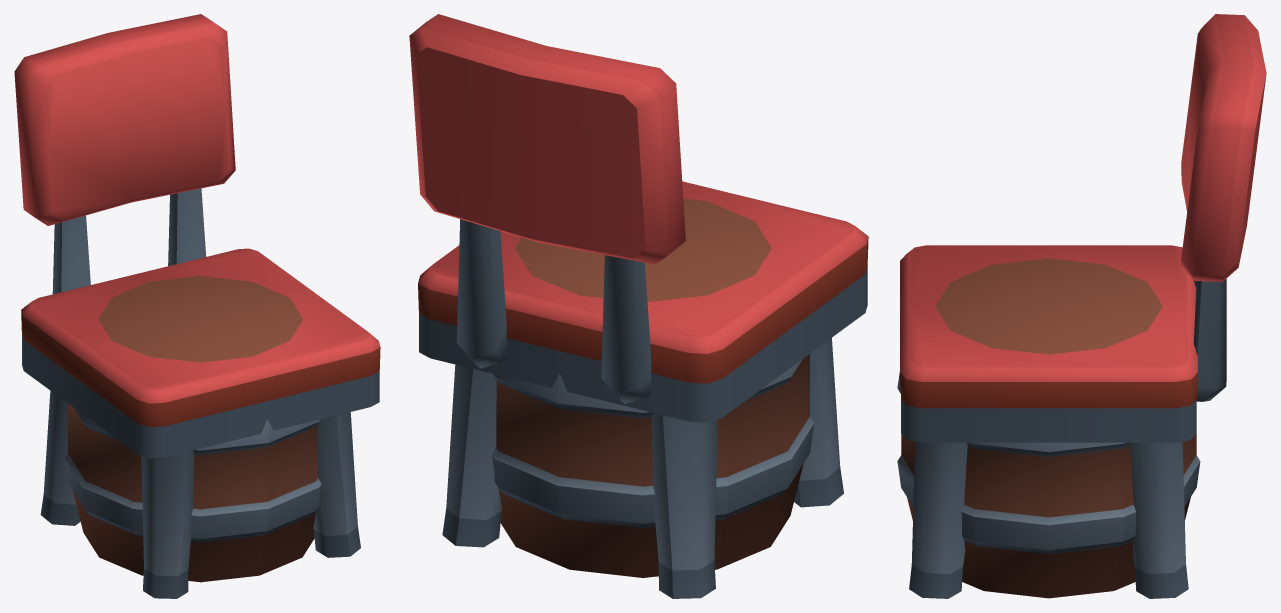
File: Chairs-nc.fbx
The picture shows the model from 3 angles, left to right: view 1: azimuth 30°, elevation 25°; view 2: azimuth 150°, elevation 25°; view 3: azimuth 270°, elevation 25°; orthographic projection. The views are drawn at different scales.
Visible parts, largest first — view 1: Сhair-nc-red, Chair-ns-barrel; view 2: Сhair-nc-red, Chair-ns-barrel; view 3: Сhair-nc-red, Chair-ns-barrel.
Part boxes in pixels (x1,y1,x2,y2): Сhair-nc-red: [14, 14, 380, 598]; Chair-ns-barrel: [64, 276, 321, 582]; Сhair-nc-red: [409, 14, 868, 598]; Chair-ns-barrel: [492, 198, 814, 577]; Сhair-nc-red: [900, 14, 1266, 598]; Chair-ns-barrel: [897, 258, 1200, 598].
Size of the model in its own units: 70.49 by 121 by 84.02.
